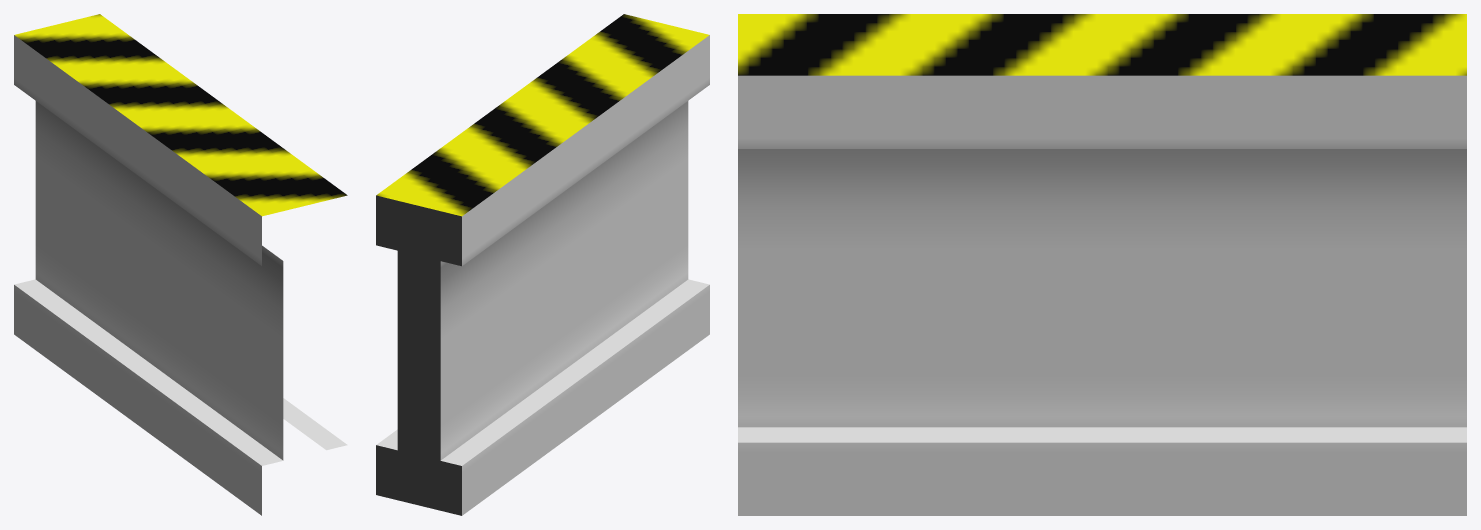
File: factory2.gltf
3 renders of one model, left to right at view 1: azimuth 30°, elevation 25°; view 2: azimuth 150°, elevation 25°; view 3: azimuth 270°, elevation 25°, orthographic. The views are drawn at different scales.
Parts seen in each view (by area): view 1: factory2; view 2: factory2; view 3: factory2.
Part boxes in pixels (x1,y1,x2,y2): factory2: (14, 14, 347, 515); factory2: (376, 14, 709, 515); factory2: (738, 14, 1466, 515).
Size of the model in its own units: 0.6 by 2 by 3.
